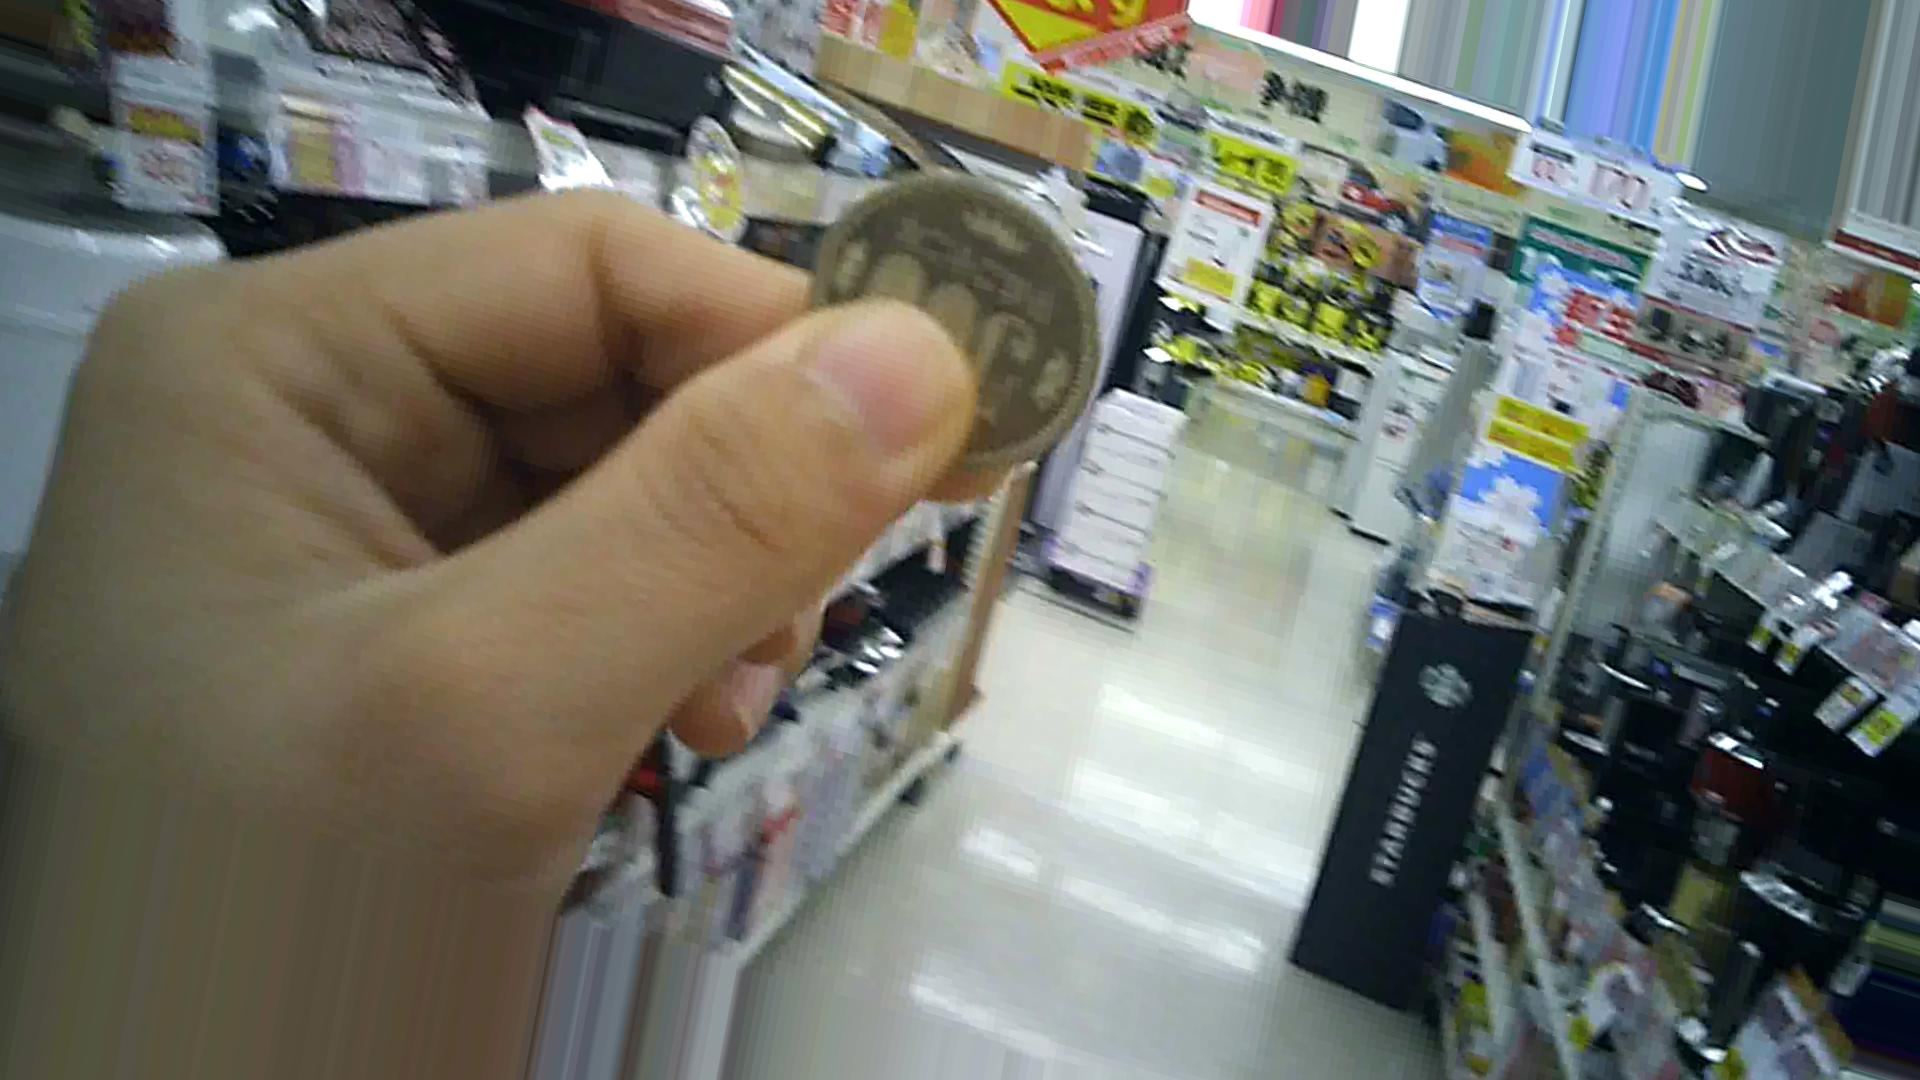500 Yen: (800, 171, 1110, 477)
